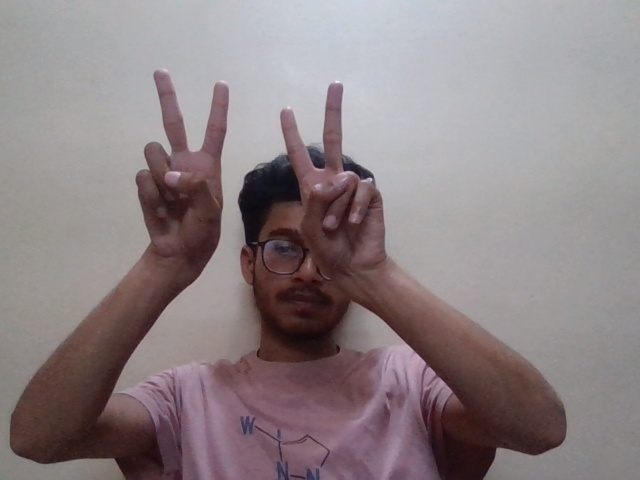take-care: (143, 62, 400, 274)
